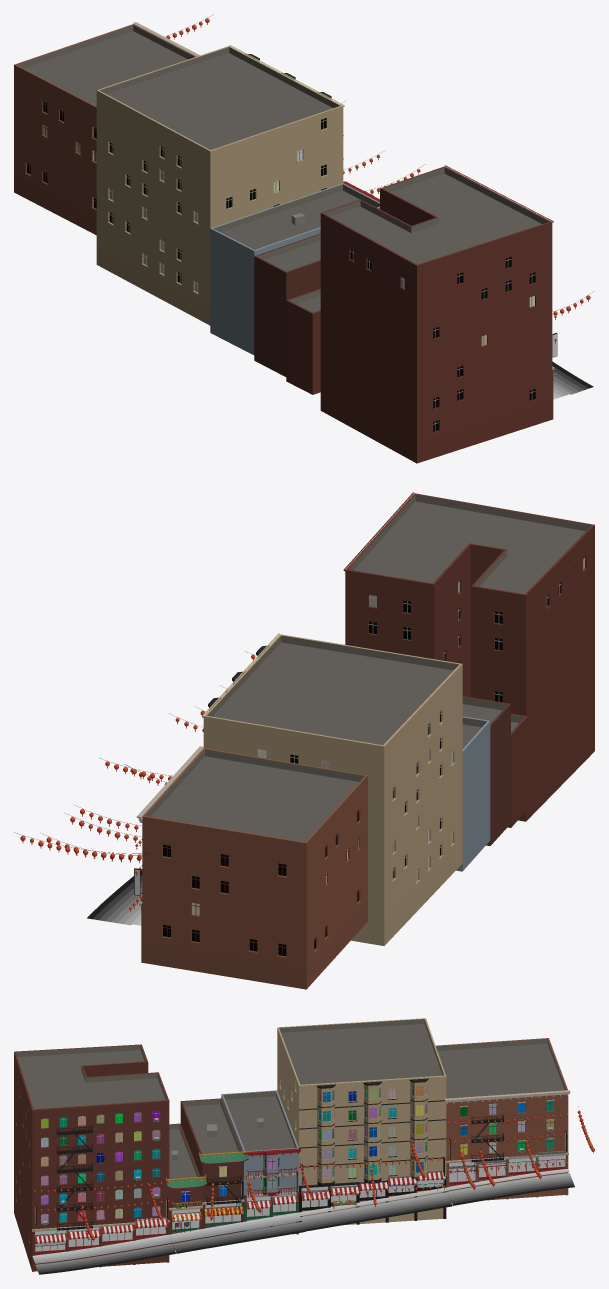
3 views of the same model, one above another, from view 1: azimuth 30°, elevation 25°; view 2: azimuth 150°, elevation 25°; view 3: azimuth 270°, elevation 25° (orthographic). The views are drawn at different scales.
Visible parts, largest first — view 1: L0_brickred, L0_roof, L0_stucco, L0_d_brickred, L0_d_stucco, L0_stone, L0_win, L0_metal, L0_ground; view 2: L0_brickred, L0_roof, L0_stucco, L0_stone, L0_d_brickred, L0_d_stucco, L0_win, L0_ground, L0_lantern, L0_metal; view 3: L0_roof, L0_brickred, L0_stucco, L0_ground, L0_d_metal, L0_cwin, L0_stone, L0_clear, L0_d_fabric, L0_d_stone, L0_lantern, L0_d_paint (+5 smaller).
Part boxes in pixels (x1,y1,x2,y2): L0_brickred: (14, 65, 552, 463); L0_roof: (17, 25, 548, 312); L0_stucco: (96, 90, 379, 325); L0_d_brickred: (254, 256, 320, 394); L0_d_stucco: (210, 228, 254, 355); L0_stone: (14, 22, 554, 369); L0_win: (27, 101, 534, 431); L0_metal: (27, 102, 535, 431); L0_ground: (552, 361, 593, 399); L0_brickred: (142, 525, 594, 989); L0_roof: (145, 494, 591, 841); L0_stucco: (203, 657, 462, 945); L0_stone: (136, 492, 594, 906); L0_d_brickred: (490, 704, 527, 845); L0_d_stucco: (456, 721, 490, 871); L0_win: (163, 558, 584, 956); L0_ground: (87, 869, 142, 925); L0_lantern: (20, 655, 255, 909); L0_metal: (163, 559, 585, 955); L0_roof: (16, 1019, 566, 1178); L0_brickred: (14, 1052, 568, 1271); L0_stucco: (221, 1028, 446, 1234); L0_ground: (32, 1169, 574, 1274); L0_d_metal: (34, 1085, 588, 1254); L0_cwin: (41, 1085, 553, 1223); L0_stone: (14, 1018, 570, 1231); L0_clear: (35, 1159, 565, 1251); L0_d_fabric: (34, 1114, 593, 1243); L0_d_stone: (32, 1094, 568, 1271); L0_lantern: (34, 1111, 594, 1239); L0_d_paint: (59, 1094, 568, 1227).
Size of the model in its own units: 44.15 by 28.66 by 89.81.
